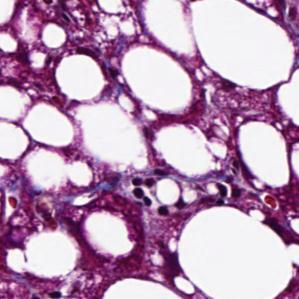inflammation: (129, 168, 158, 215), (212, 179, 233, 201)
